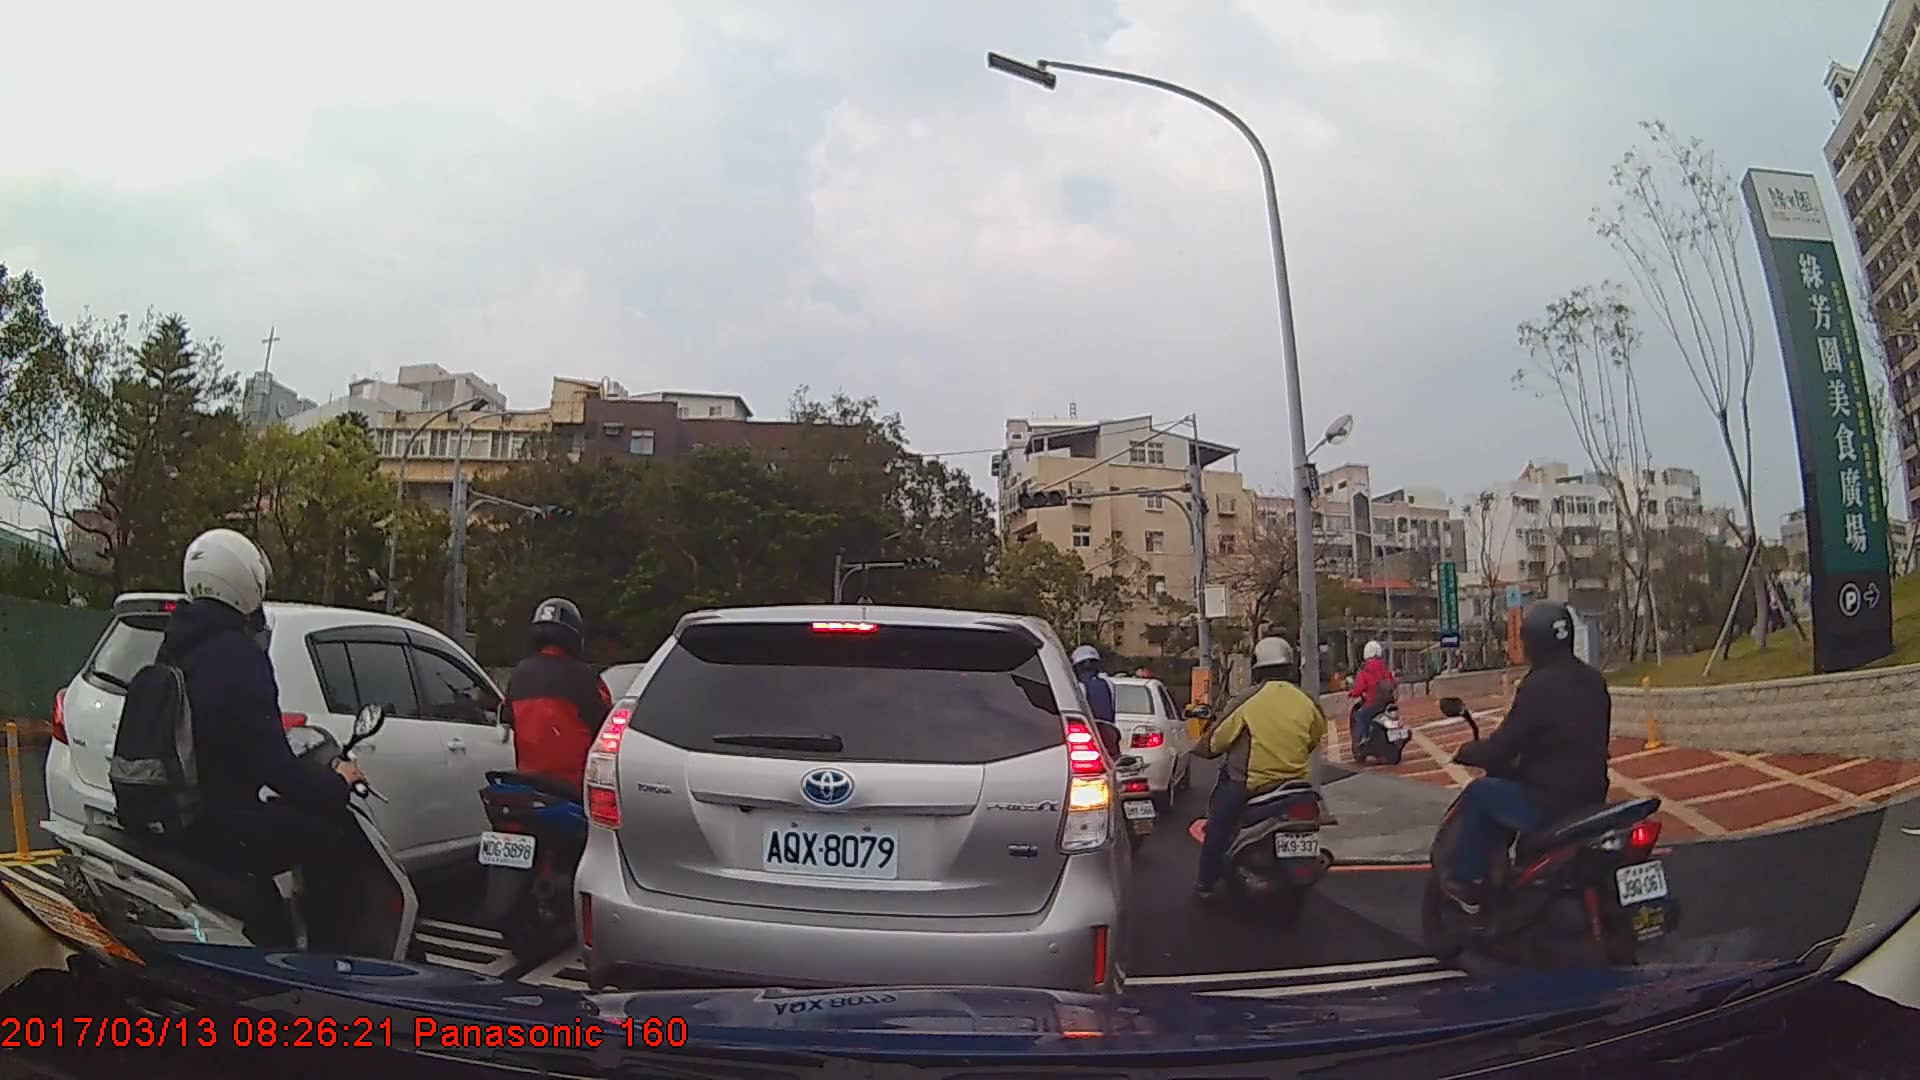pedestrian: (1754, 560, 1796, 636), (1749, 575, 1783, 638)
rider: (39, 525, 425, 1037), (1420, 596, 1677, 993), (472, 593, 641, 961), (1188, 635, 1331, 911), (1337, 638, 1410, 764)
vehicle: (572, 602, 1132, 1022), (43, 591, 578, 922)
